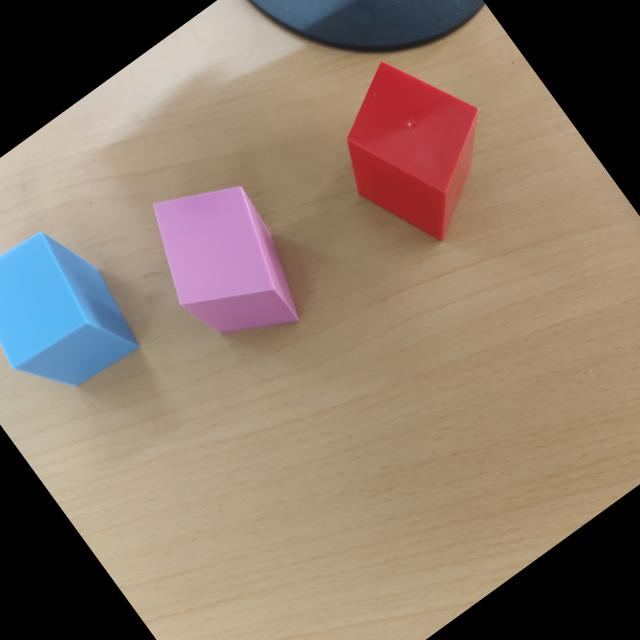blue: (0, 231, 139, 388)
pink: (152, 185, 299, 335)
red: (347, 62, 479, 241)
